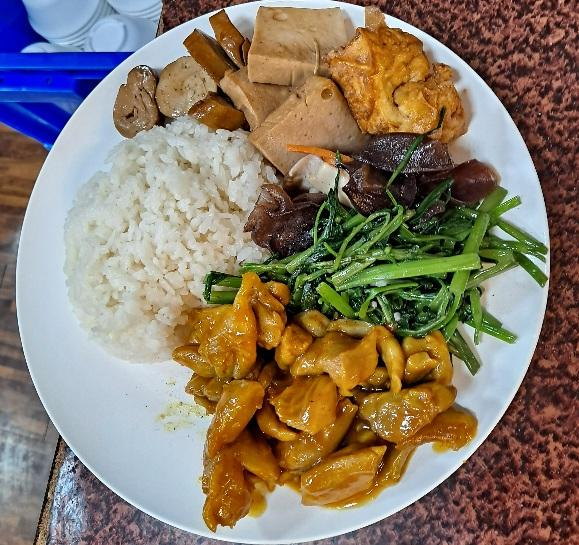big fried chicken leg: (7, 6, 567, 539)
big herbal chicken leg: (63, 131, 273, 351)
braised fish fillet: (109, 11, 463, 133), (261, 196, 518, 344), (277, 130, 500, 212)
braised pork: (170, 293, 460, 513)
